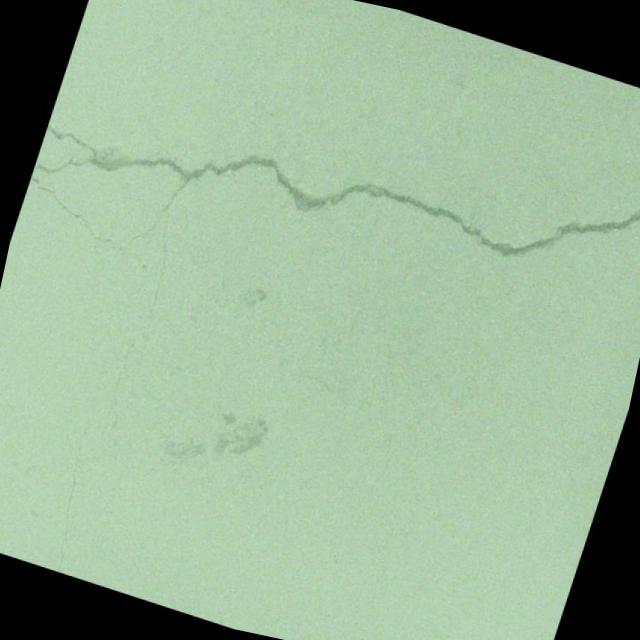crack: (0, 0, 640, 519), (36, 414, 108, 576), (101, 336, 142, 429), (598, 106, 640, 181)
